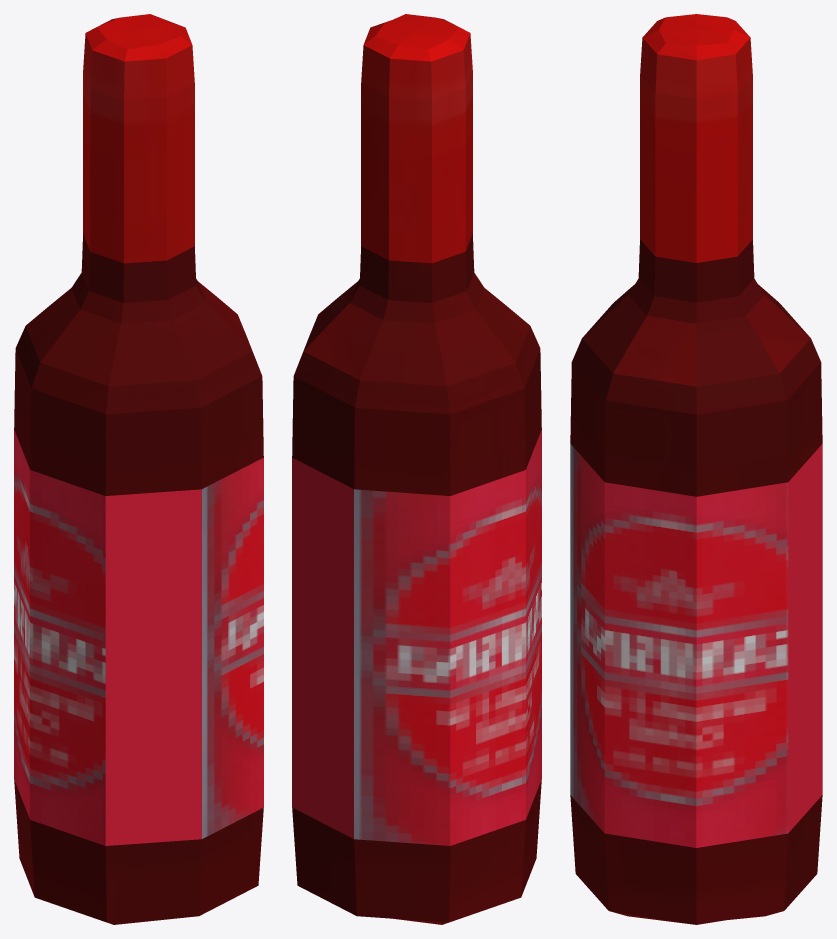
File: gambina.fbx
3 views of the same model, side by side, from view 1: azimuth 30°, elevation 25°; view 2: azimuth 150°, elevation 25°; view 3: azimuth 270°, elevation 25° (orthographic).
Visible parts, largest first — view 1: Plane; view 2: Plane; view 3: Plane.
Part boxes in pixels (x1,y1,x2,y2): Plane: (14,14,263,924); Plane: (292,14,541,924); Plane: (570,14,822,924).
Bounding box in the file's own units: 29.04 × 109 × 29.04.
